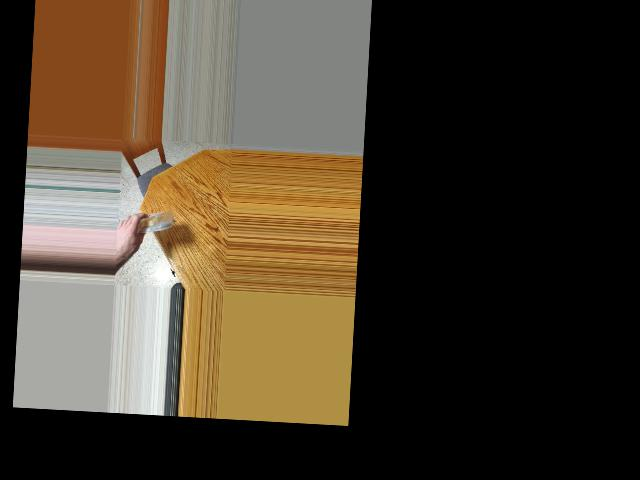cheese: (137, 208, 171, 241)
